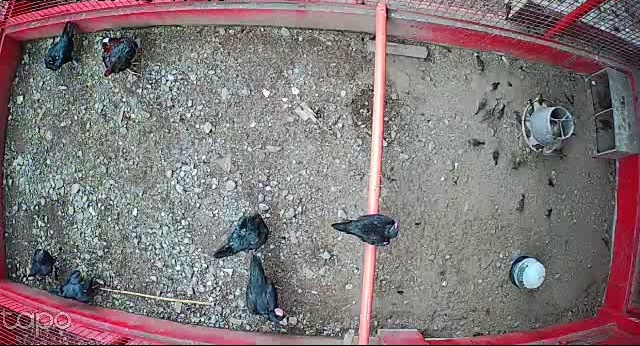Chicken: (244, 251, 295, 327), (326, 210, 404, 252), (213, 209, 273, 262), (43, 18, 78, 76), (44, 270, 102, 303), (21, 249, 58, 281)
Drinker: (508, 251, 547, 291)
Feeder: (521, 94, 575, 157)
Rooster: (97, 36, 144, 80)
